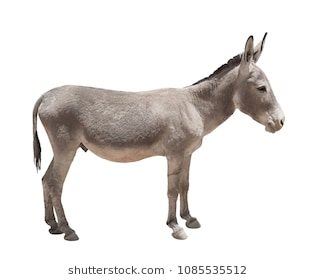donkey: (31, 30, 285, 241)
